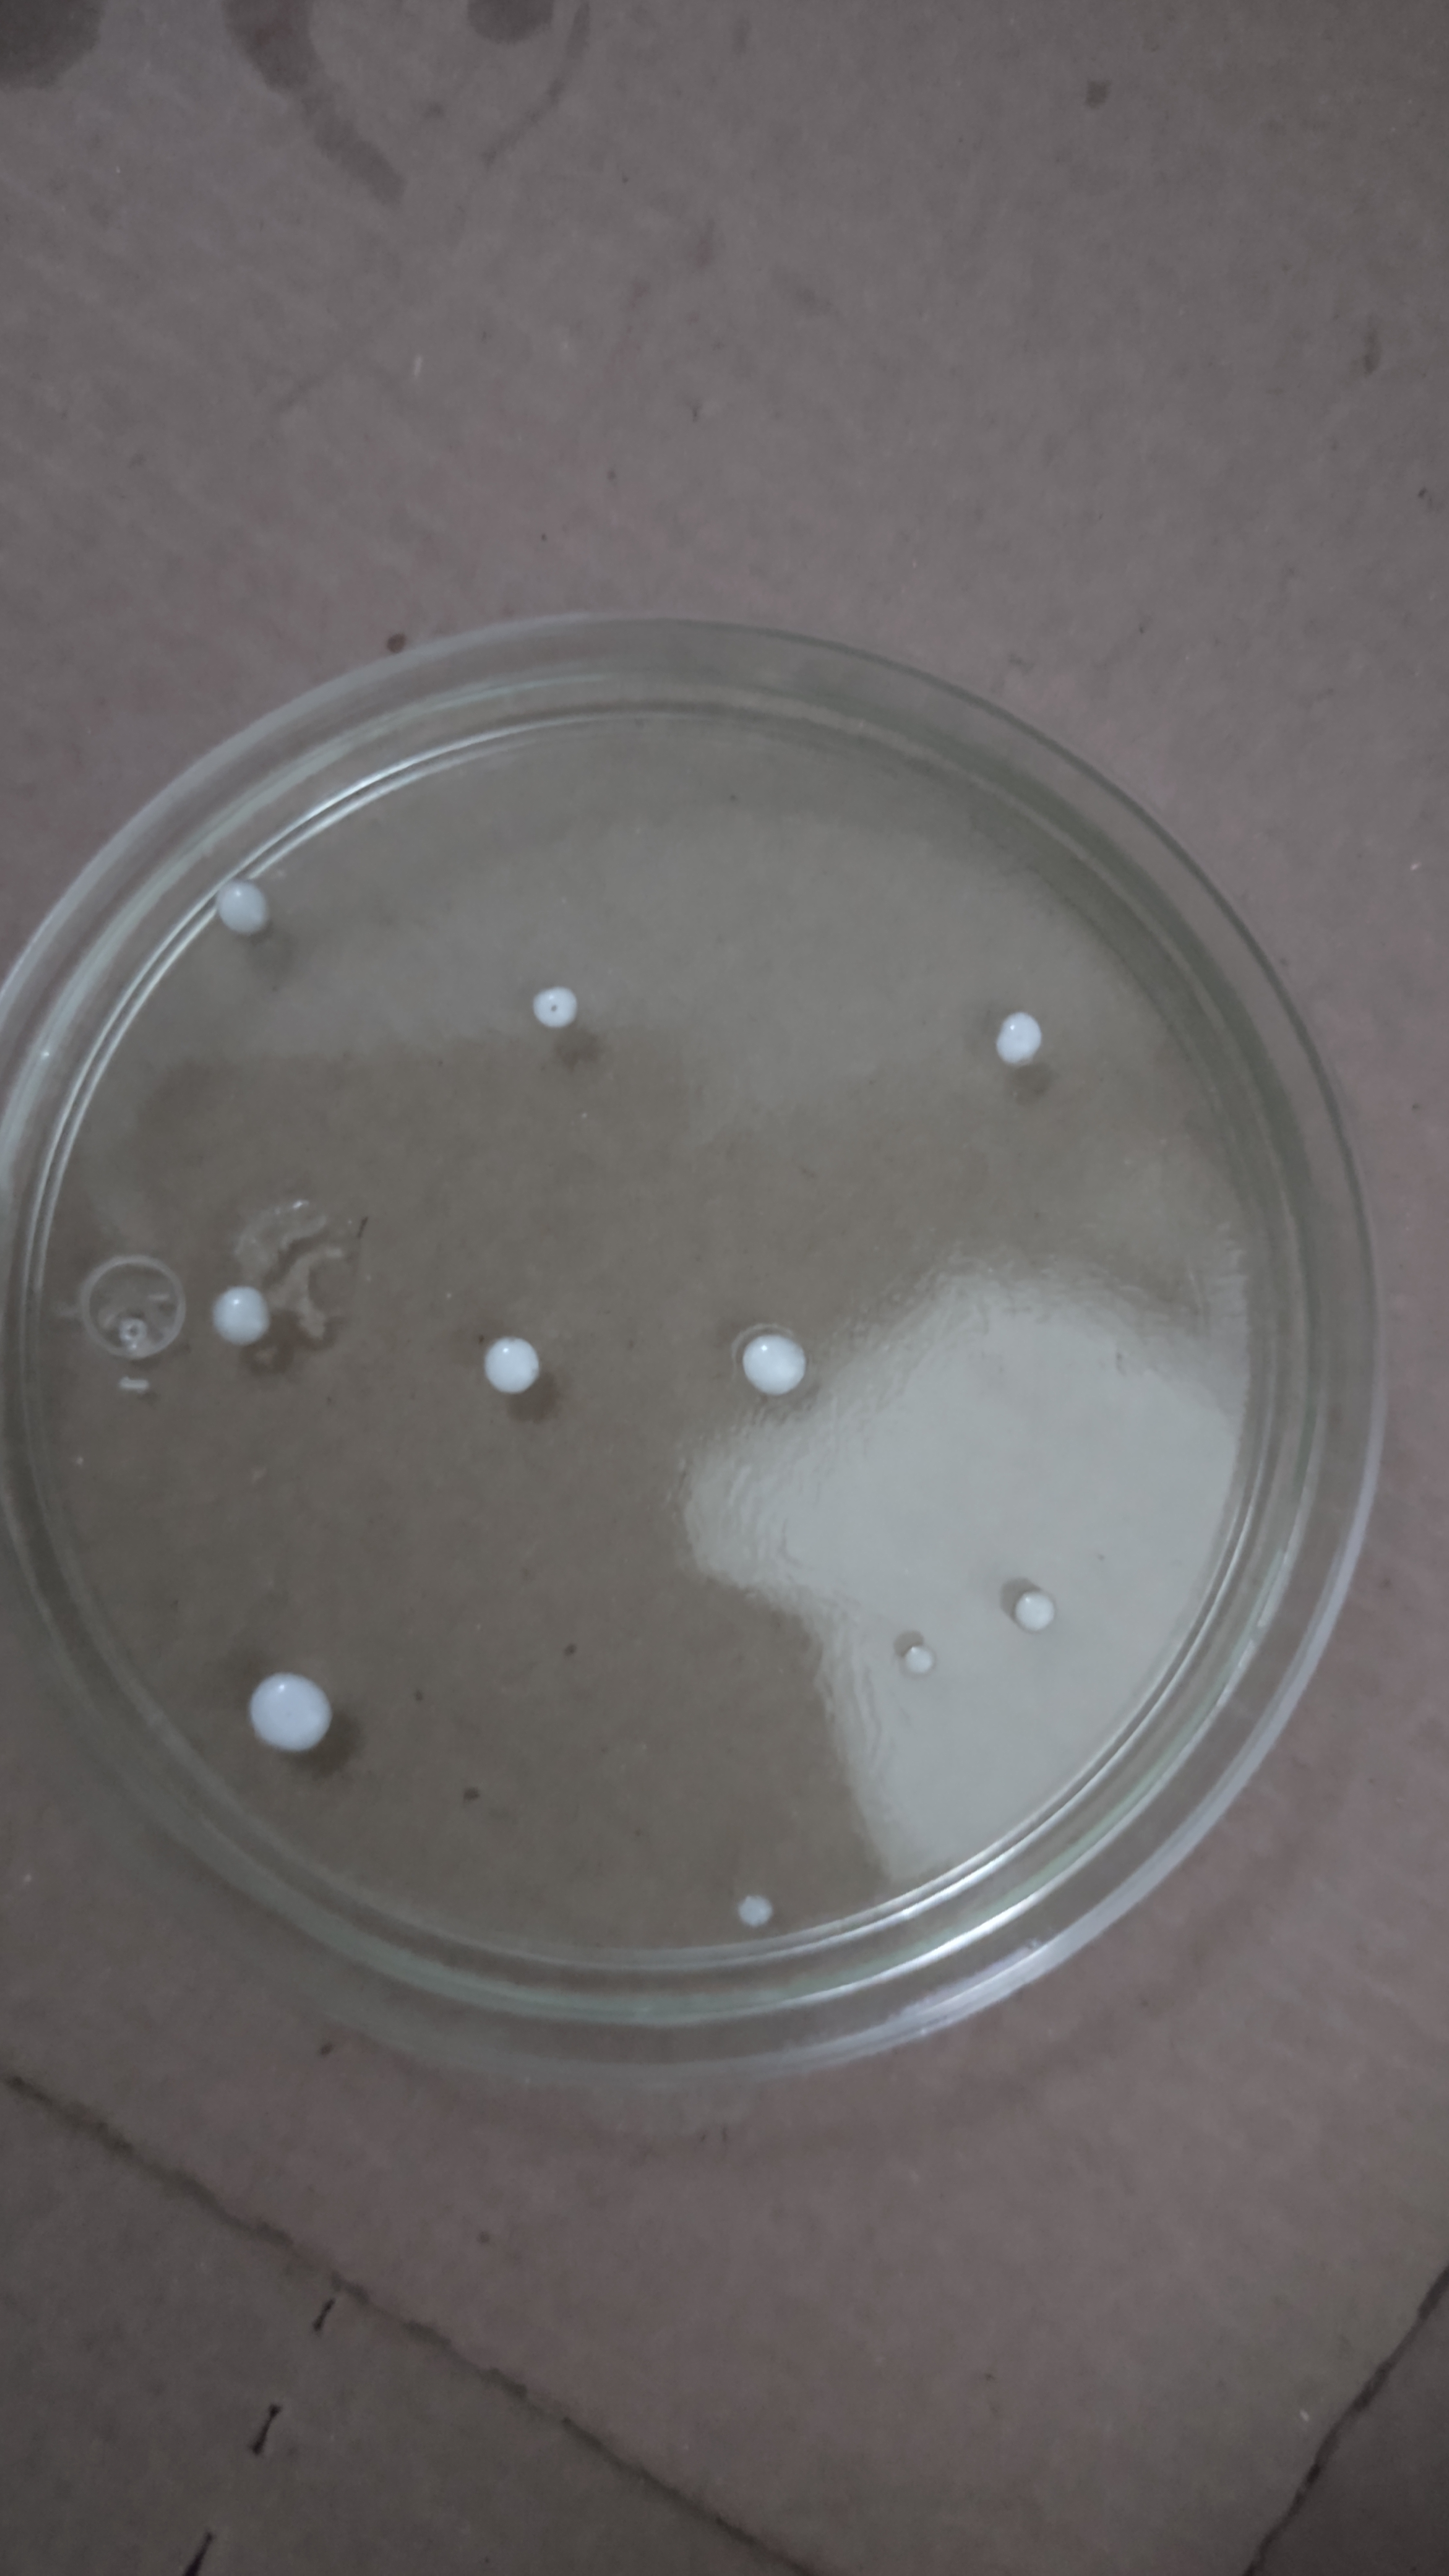Colonia: (246, 1665, 333, 1759), (743, 1329, 807, 1396), (211, 1284, 274, 1350), (211, 874, 274, 929), (483, 1339, 540, 1394), (996, 1012, 1046, 1063), (1007, 1589, 1058, 1638), (531, 980, 584, 1028), (899, 1637, 943, 1677), (736, 1891, 778, 1932)
